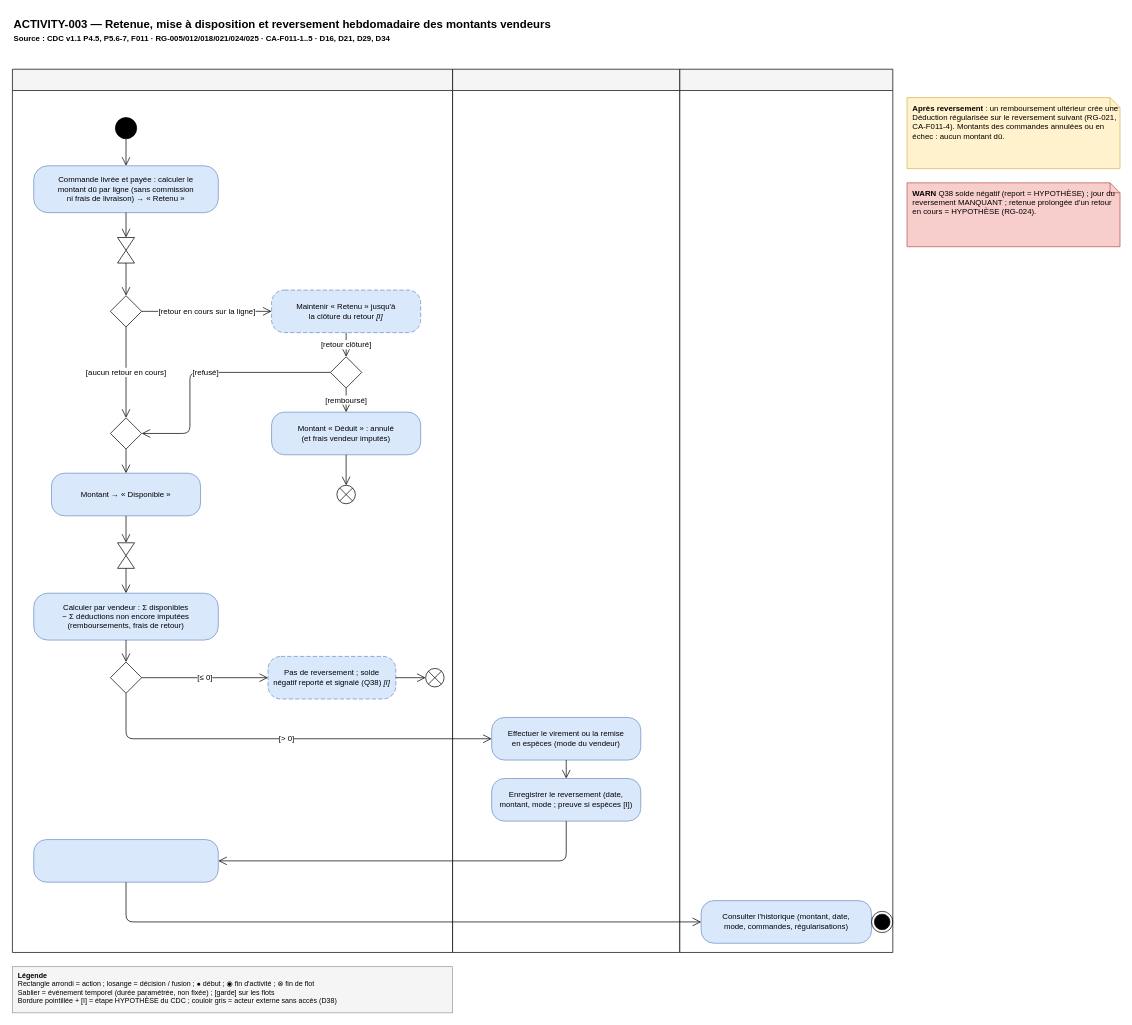
Image size: 1132x1025. Some labels were removed from this diagram. The shapes that lost their labels are listed below. From the top down, each one's box as (x1, y1, x2, y2) in pixels, then its label:
(117, 237, 135, 263): fin du délai de retour (réception + 7 j)
(12, 69, 453, 952): Plateforme
(452, 69, 680, 952): Administrateur
(679, 69, 893, 952): Vendeur
(117, 542, 135, 568): chaque semaine (jour à fixer)
(33, 839, 218, 882): Montants → « Reversé » ; déductions imputées (régularisation) ; notifier
